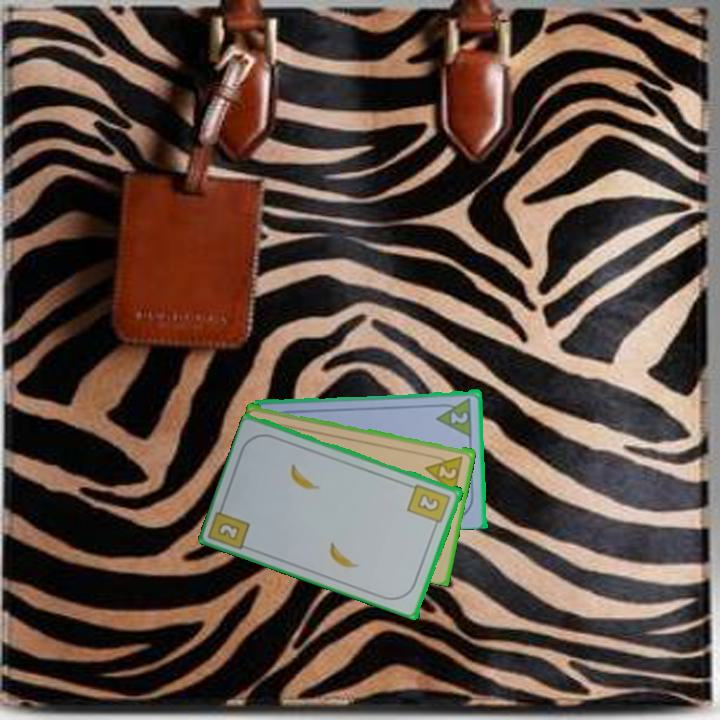2b: (404, 480, 454, 531), (214, 518, 243, 543)
2p: (422, 452, 466, 495), (447, 408, 471, 426)
